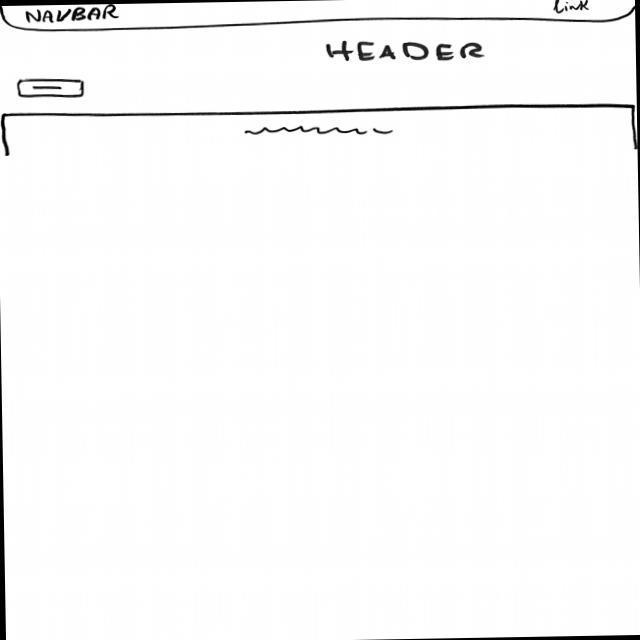container: (1, 1, 635, 34)
icon-button: (16, 77, 87, 101)
label: (328, 37, 488, 65), (24, 5, 123, 24), (551, 1, 593, 16)
text: (241, 123, 398, 140)
